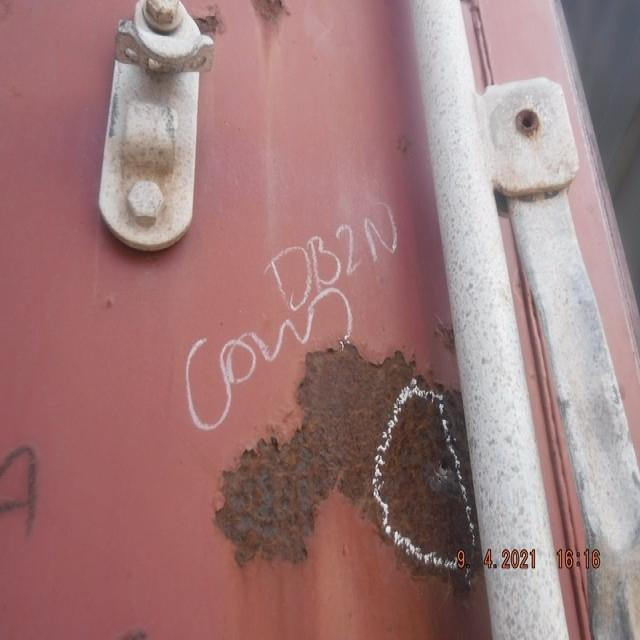rust: (211, 340, 478, 600)
